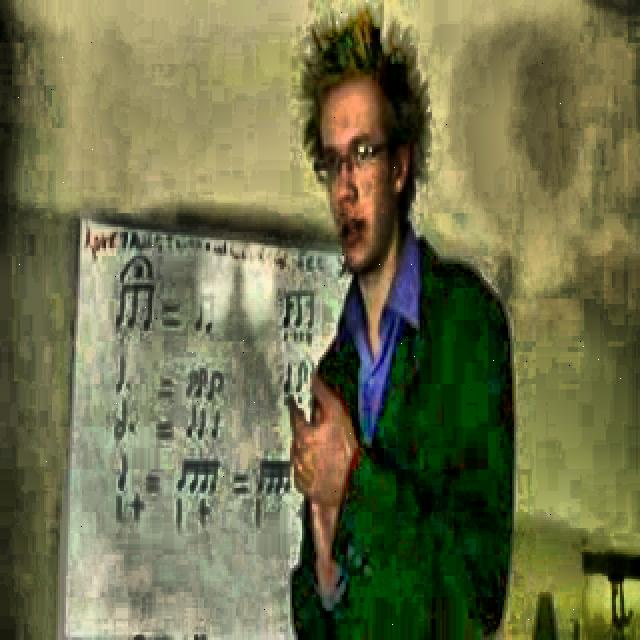F: (265, 4, 520, 640)
